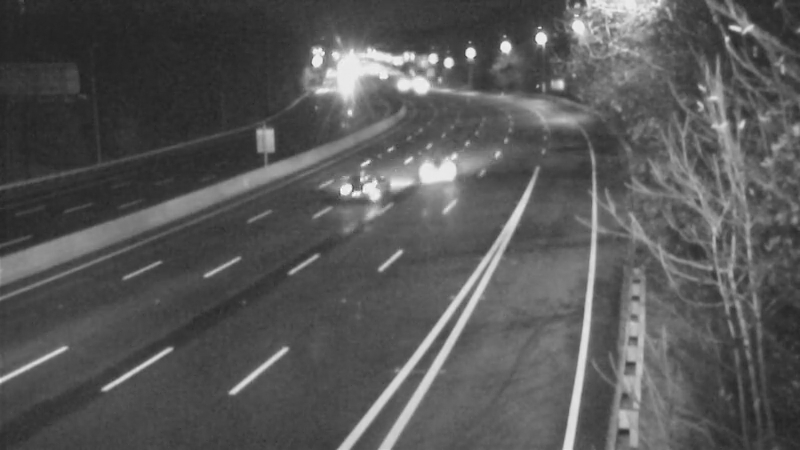vehicle: (396, 126, 476, 206), (316, 145, 396, 225)
